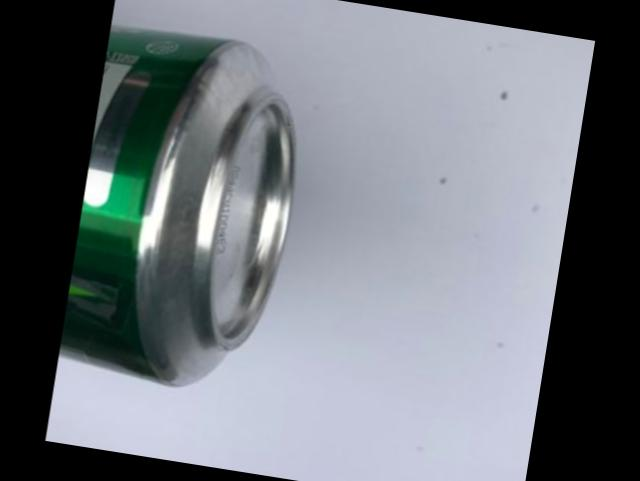metal: (58, 28, 296, 386)
